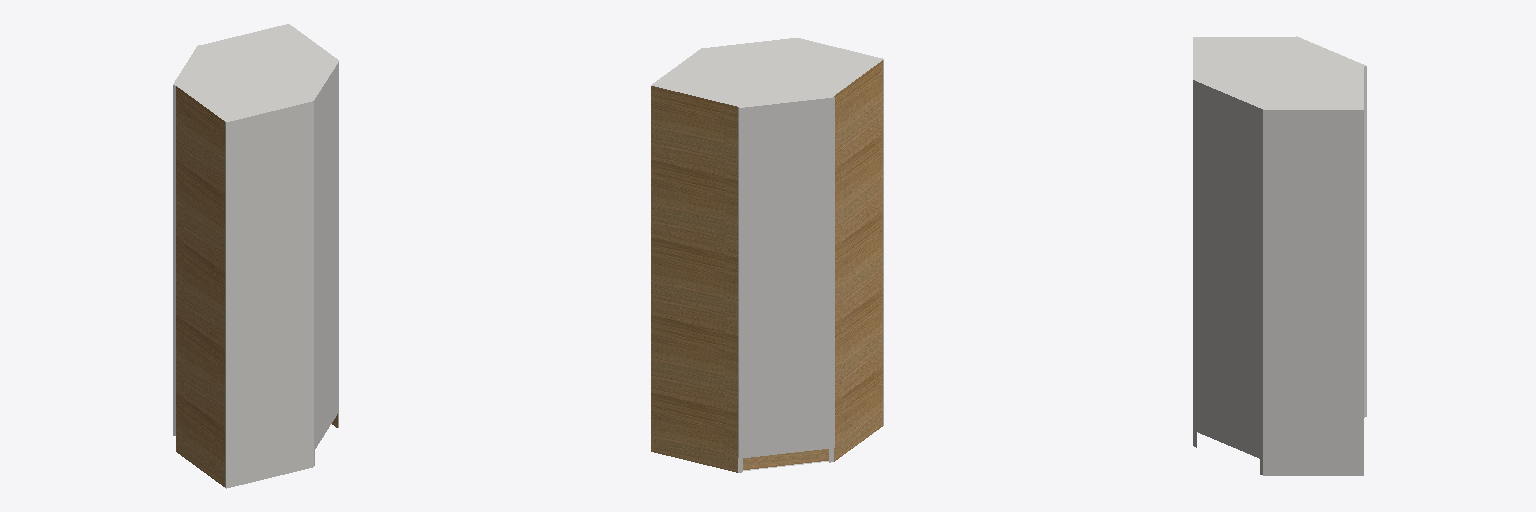
3 renders of one model, left to right at view 1: azimuth 30°, elevation 25°; view 2: azimuth 150°, elevation 25°; view 3: azimuth 270°, elevation 25°, orthographic.
Parts seen in each view (by area): view 1: Mesh1 Model; view 2: Mesh1 Model; view 3: Mesh1 Model.
Boxes of the visible parts, x1,y1,x2,y2 form: Mesh1 Model: [173, 24, 338, 488]; Mesh1 Model: [651, 38, 883, 472]; Mesh1 Model: [1193, 36, 1366, 475].
Bounding box in the file's own units: 1.01 × 2.36 × 1.01.
2 materials, 1 textured.